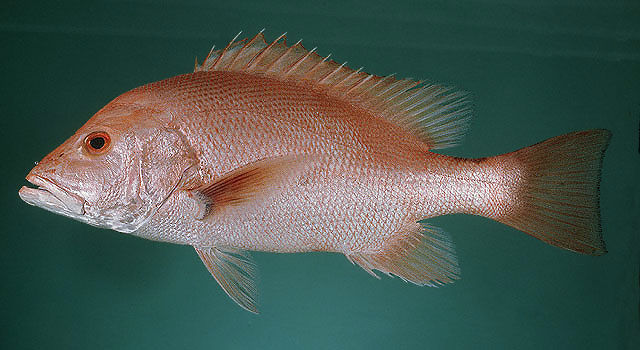fish: (18, 27, 614, 315)
